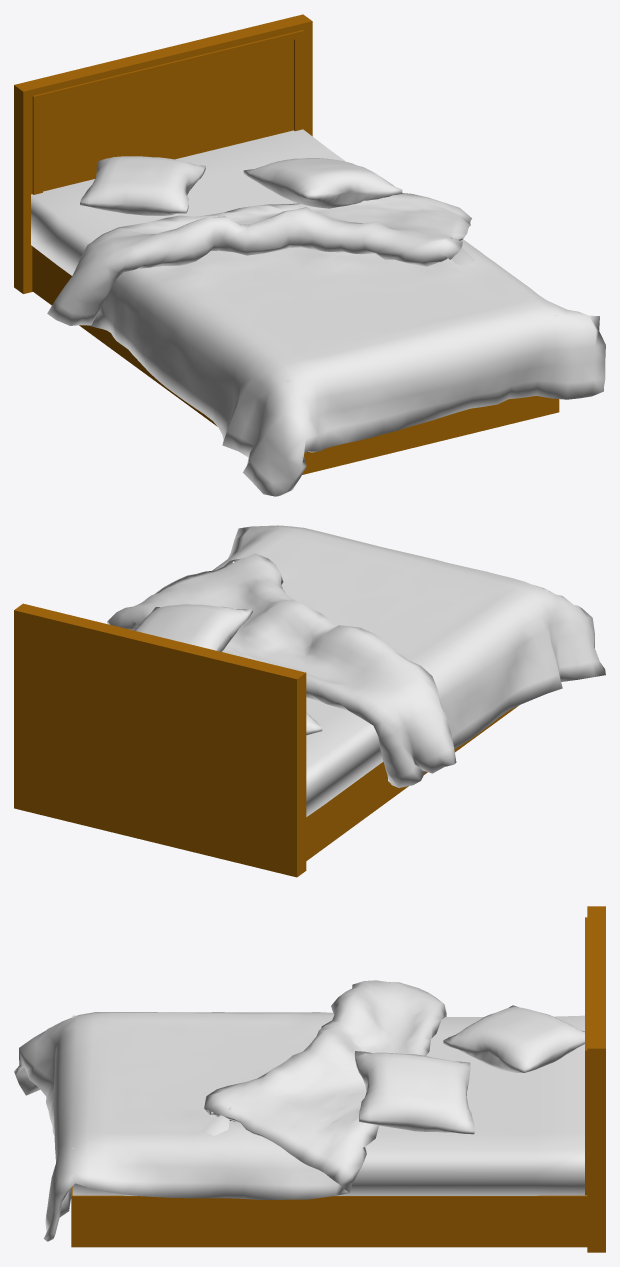
Rendered from Bed.fbx.
3 views of the same model, one above another, from view 1: azimuth 30°, elevation 25°; view 2: azimuth 150°, elevation 25°; view 3: azimuth 270°, elevation 25° (orthographic). The views are drawn at different scales.
Parts seen in each view (by area): view 1: SurfPatch.001, Cube.002, Cube, Cube.001, Plane, Plane.001; view 2: Cube.002, SurfPatch.001, Cube, Cube.001, Plane.001; view 3: SurfPatch.001, Cube.001, Cube, Plane.001, Cube.002, Plane.
Part boxes in pixels (x1,y1,x2,y2): SurfPatch.001: [47, 193, 605, 496]; Cube.002: [14, 14, 312, 293]; Cube: [31, 129, 557, 383]; Cube.001: [32, 246, 559, 474]; Plane: [80, 156, 205, 215]; Plane.001: [243, 158, 402, 208]; Cube.002: [14, 603, 306, 877]; SurfPatch.001: [107, 525, 605, 787]; Cube: [283, 525, 548, 816]; Cube.001: [306, 706, 517, 860]; Plane.001: [134, 604, 252, 651]; SurfPatch.001: [14, 980, 446, 1241]; Cube.001: [71, 1186, 587, 1247]; Cube: [72, 1015, 586, 1195]; Plane.001: [354, 1051, 474, 1134]; Cube.002: [585, 906, 605, 1252]; Plane: [443, 1005, 584, 1072].
Size of what is drawn, in the model's own units: 640 by 317 by 834.
